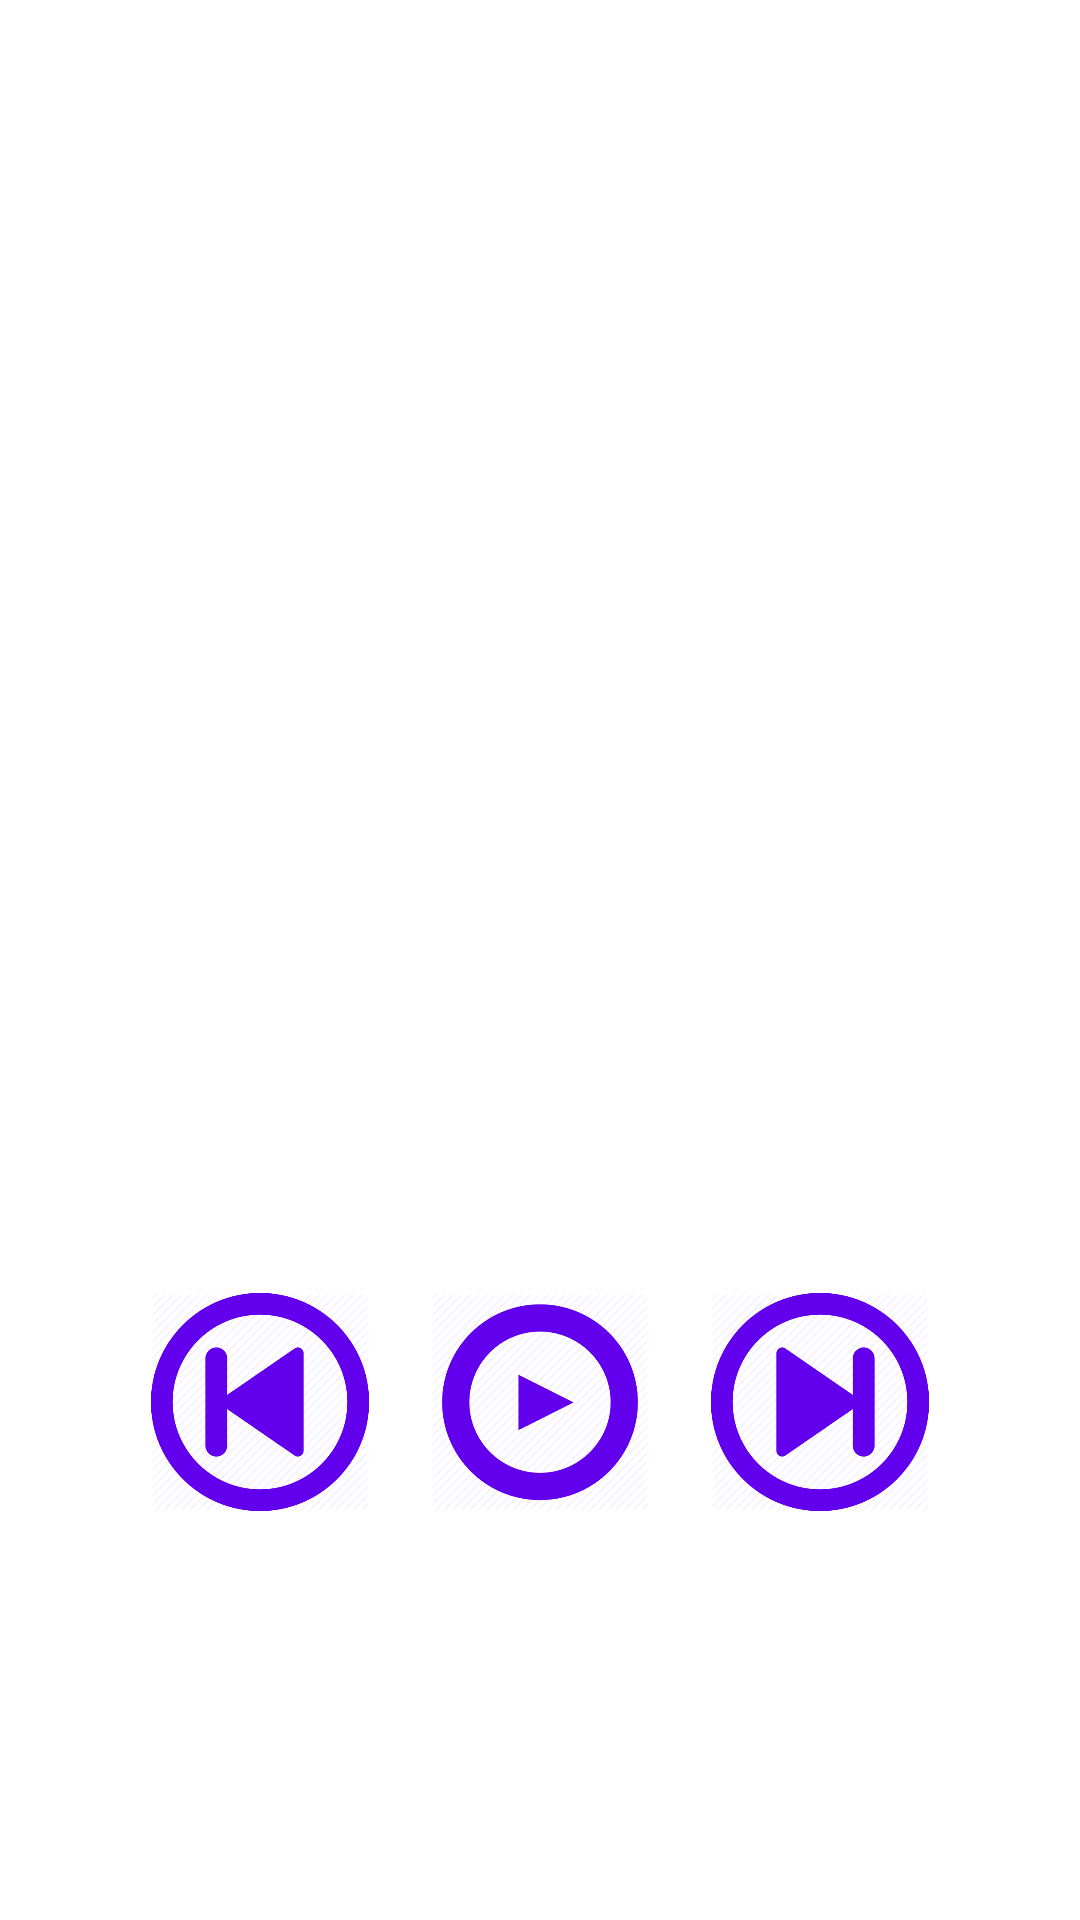

Named icons in this screenshot (1080w x 1920h) and their centers, (x,y):
forward: (820,1402)
play: (540,1402)
rewind: (260,1402)
